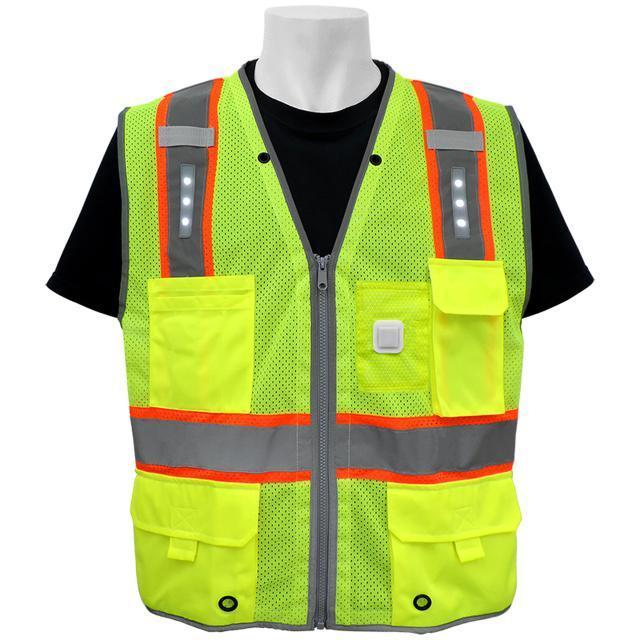safety_helmet: (117, 57, 534, 636)
